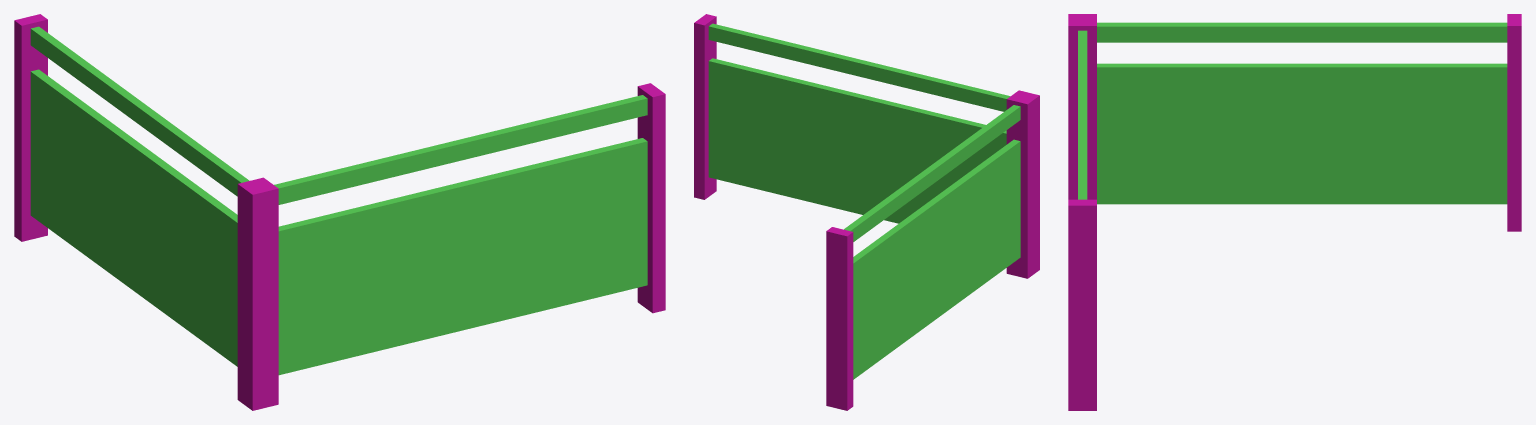
Rendered from barrierRoofAngle.fbx.
The picture shows the model from 3 angles, left to right: view 1: azimuth 30°, elevation 25°; view 2: azimuth 150°, elevation 25°; view 3: azimuth 270°, elevation 25°; orthographic projection. The views are drawn at different scales.
Visible parts, largest first — view 1: barrier; view 2: barrier; view 3: barrier.
Part boxes in pixels (<box>): barrier: <box>14,14,665,410</box>; barrier: <box>694,14,1039,410</box>; barrier: <box>1068,14,1521,410</box>.
Size of the model in its own units: 256 by 128 by 256.
